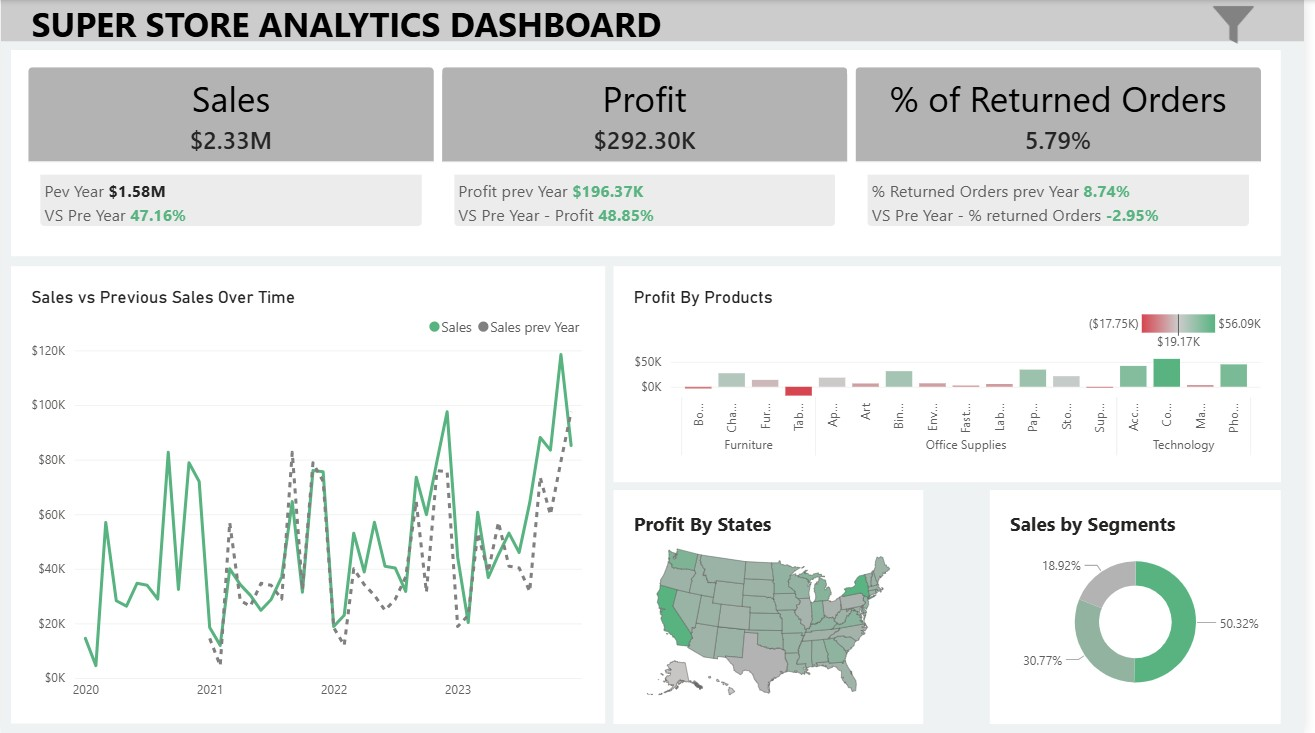

This screenshot's page, from the dashboard's own definition file:
{"tool":"powerbi","page":{"name":"Page 1","canvas":[1280,720],"ordinal":0},"visuals":[{"type":"image","title":"Filter","box":[1172.8,0,73.6,49.1],"z":0,"group":"g1"},{"type":"cardVisual","fields":{"Data":["Measures..Sales","Measures..PROFIT","Measures..% of Returned Orders"]},"box":[9.8,49.1,1246.6,202.5],"z":0},{"type":"shape","box":[0,0,1279.8,40.5],"z":1000},{"type":"lineChart","title":"Sales vs Previous Sales Over Time","fields":{"Category":["Date Table.Start of month"],"Y":["Measures..Sales","Measures..Sales prev Year"]},"box":[9.8,261.4,582.8,449.1],"z":2000},{"type":"columnChart","title":"Profit By Products","fields":{"Category":["Orders.Category","Orders.Sub-Category"],"Y":["Measures..Profit"]},"box":[601.2,261.4,655.2,212.3],"z":3000},{"type":"shapeMap","title":"Profit By States","fields":{"Value":["Measures..Profit"],"Category":["Orders.State/Province"]},"box":[601.2,481,304.3,229.4],"z":4000},{"type":"donutChart","title":"Sales by Segments","fields":{"Y":["Measures..Sales"],"Category":["Orders.Segment"]},"box":[970.6,481,285.9,229.4],"z":5000},{"type":"group","id":"g1","title":"Slicer Pane","box":[471.2,0,808.8,686.7],"z":6000}]}

Visuals, with their boxes in screenshot pixels (x1, y1, x2, y2), scaled from the page's 1280x720 canvas onto the 1315x733 screenshot:
"Filter" image: bbox=[1205, 0, 1280, 50]
cardVisual - Measures..Sales x Measures..PROFIT: bbox=[10, 50, 1291, 256]
shape: bbox=[0, 0, 1314, 41]
"Sales vs Previous Sales Over Time" lineChart: bbox=[10, 266, 609, 723]
"Profit By Products" columnChart: bbox=[618, 266, 1291, 482]
"Profit By States" shapeMap: bbox=[618, 490, 930, 723]
"Sales by Segments" donutChart: bbox=[997, 490, 1291, 723]
"Slicer Pane" group: bbox=[484, 0, 1314, 699]
